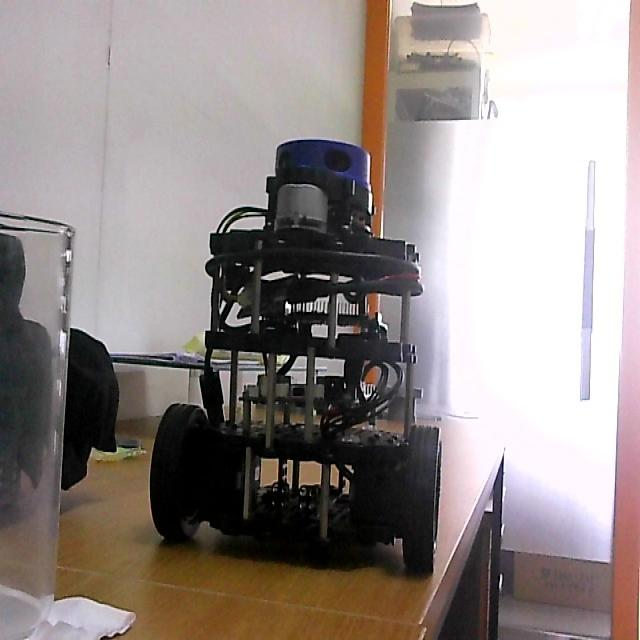turtle: (147, 134, 446, 579)
